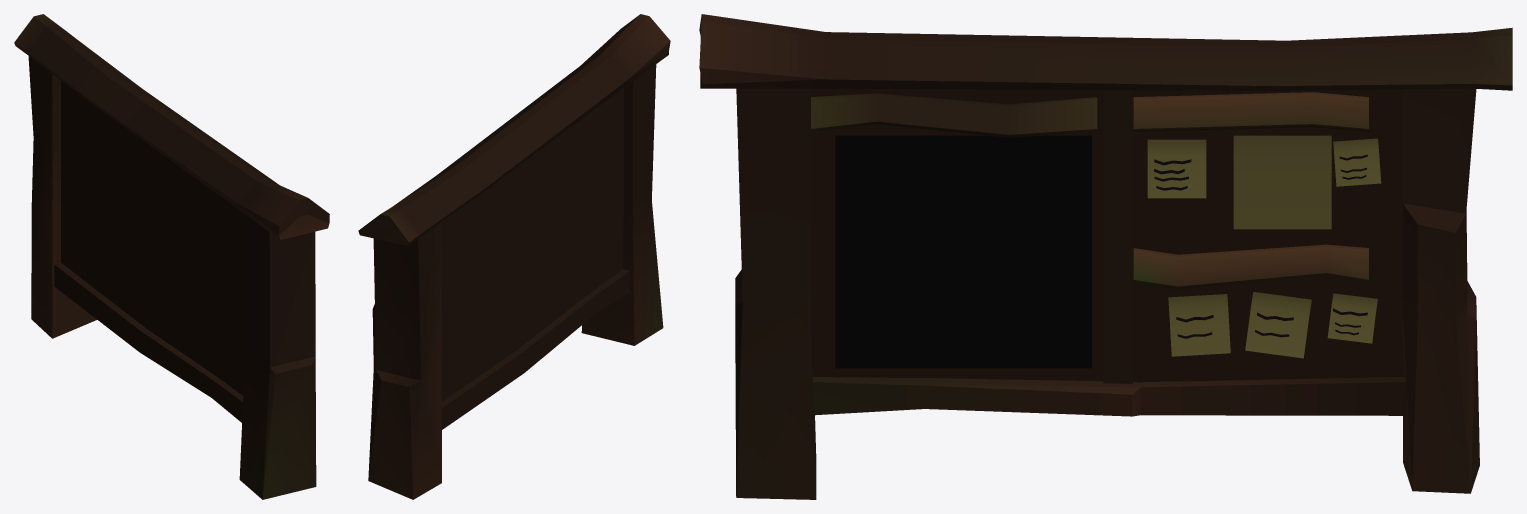
File: NoticeBoard.fbx
3 renders of one model, left to right at view 1: azimuth 30°, elevation 25°; view 2: azimuth 150°, elevation 25°; view 3: azimuth 270°, elevation 25°, orthographic. The views are drawn at different scales.
Visible parts, largest first — view 1: NoticeBoard; view 2: NoticeBoard; view 3: NoticeBoard.
Boxes of the visible parts, x1,y1,x2,y2 form: NoticeBoard: (14,14,329,499); NoticeBoard: (358,14,670,499); NoticeBoard: (699,14,1512,499).
Size of the model in its own units: 74.7 by 358 by 569.
